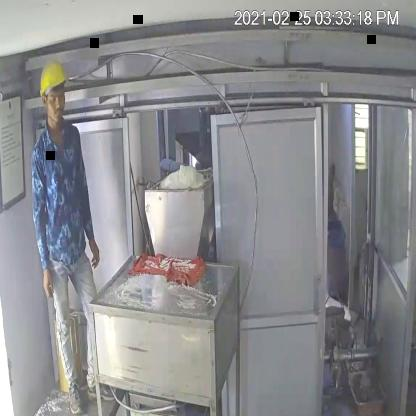helmet: (38, 60, 70, 105)
